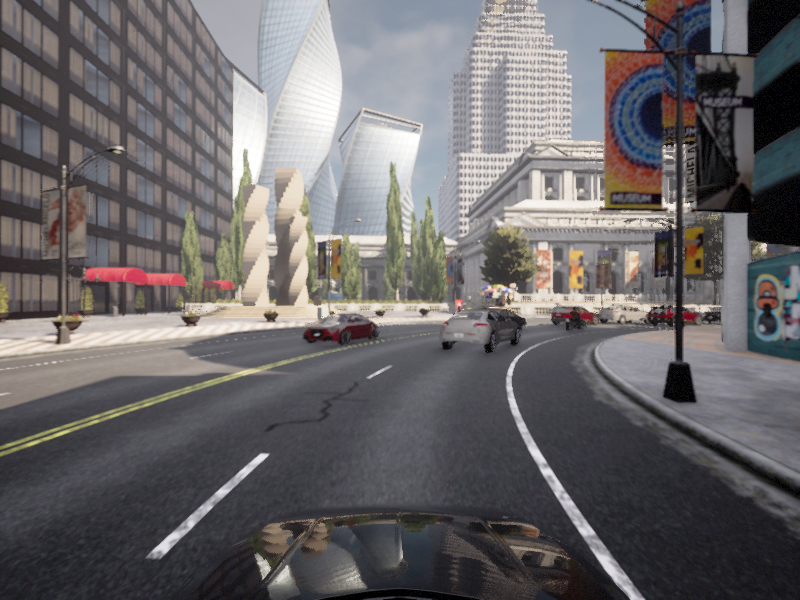vehicle: (433, 308, 523, 355), (297, 312, 382, 347), (466, 307, 529, 333), (699, 305, 772, 325), (642, 305, 707, 326), (545, 305, 602, 326), (593, 305, 654, 324), (647, 307, 712, 323), (561, 306, 589, 331)
